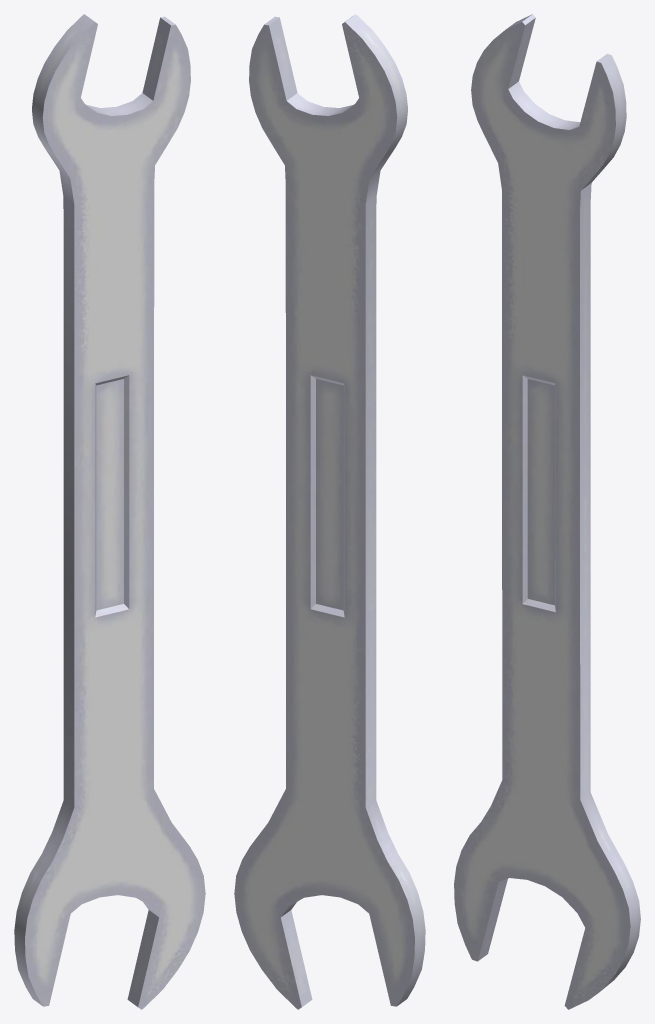
Rendered from Tool_Spanner.glb.
3 views of the same model, side by side, from view 1: azimuth 30°, elevation 25°; view 2: azimuth 150°, elevation 25°; view 3: azimuth 330°, elevation 25° (orthographic). The views are drawn at different scales.
Parts seen in each view (by area): view 1: Tool_Spanner; view 2: Tool_Spanner; view 3: Tool_Spanner.
Part boxes in pixels (x1,y1,x2,y2): Tool_Spanner: (14,14,205,1009); Tool_Spanner: (234,14,425,1009); Tool_Spanner: (454,14,640,1009).
Size of the model in its own units: 0.0474 by 0.2505 by 0.00496.
Materials: 1 (1 with a texture image).
